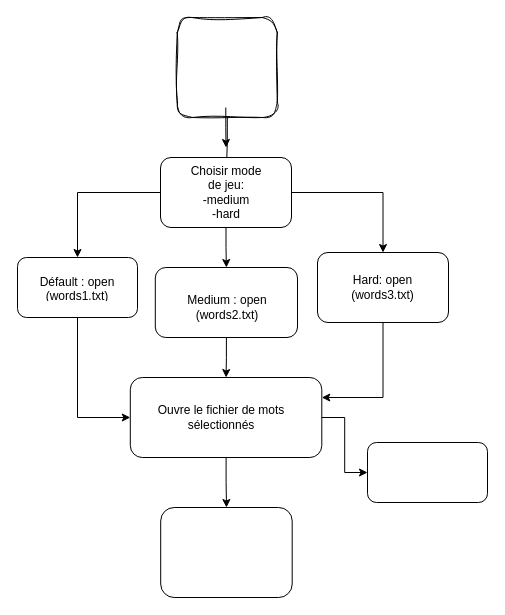
The diagram is 505 pixels wide and 615 high, and some of its shapes have lost their labels. The box of each missing label's shape, as (x1, y1, x2, y2) in pixels:
Ajoute les mots dans un tableau exploitable par le programme: (160, 506, 292, 598)
Début fonction intiwordlist(): (176, 16, 277, 118)
Si erreur = fermer: (366, 442, 488, 502)
